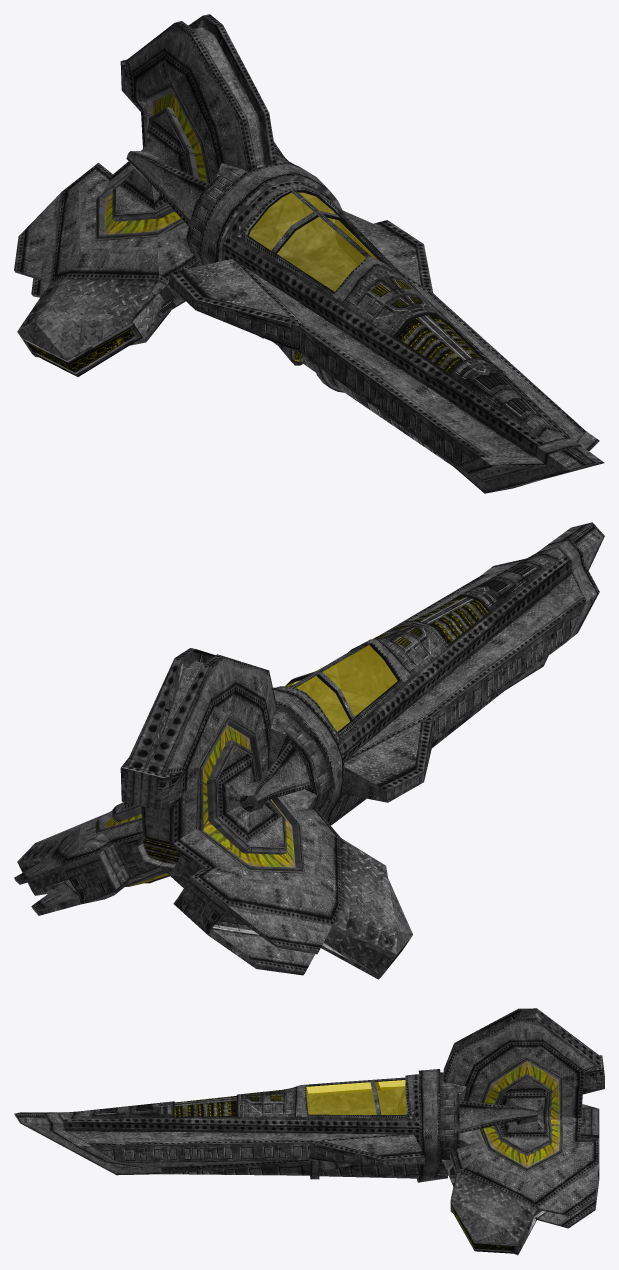
The picture shows the model from 3 angles, top to bottom: view 1: azimuth 30°, elevation 25°; view 2: azimuth 150°, elevation 25°; view 3: azimuth 270°, elevation 25°; orthographic projection. The views are drawn at different scales.
Parts seen in each view (by area): view 1: Lane_Hackers_Final.001; view 2: Lane_Hackers_Final.001; view 3: Lane_Hackers_Final.001.
Boxes of the visible parts, box(x1,y1,x2,y2) form: Lane_Hackers_Final.001: box(14, 14, 604, 493); Lane_Hackers_Final.001: box(14, 522, 604, 979); Lane_Hackers_Final.001: box(14, 1008, 604, 1255).
Size of the model in its own units: 22.36 by 16.12 by 46.18.
5 materials, 4 textured.
